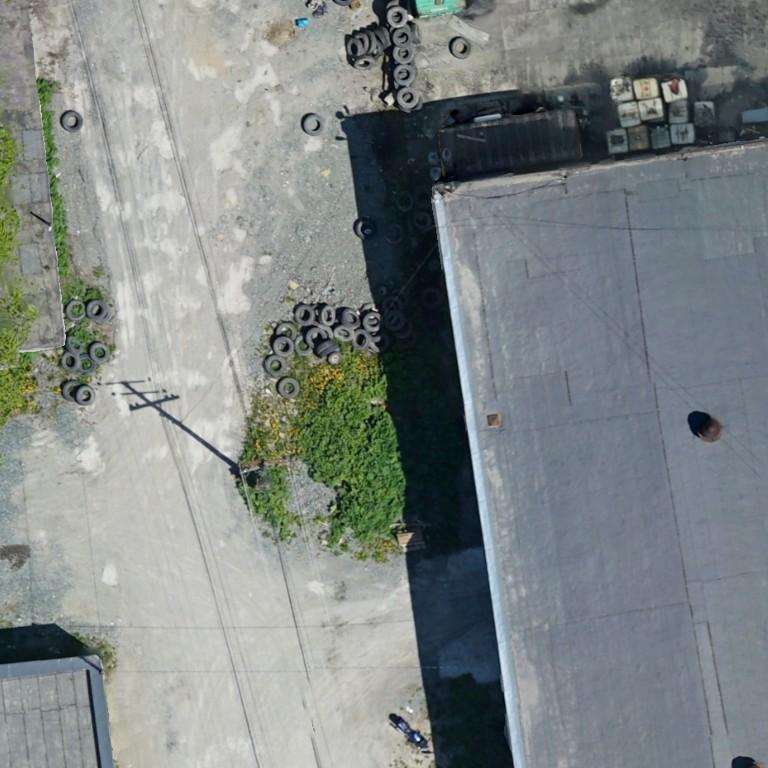hogweed: (300, 375, 426, 545)
